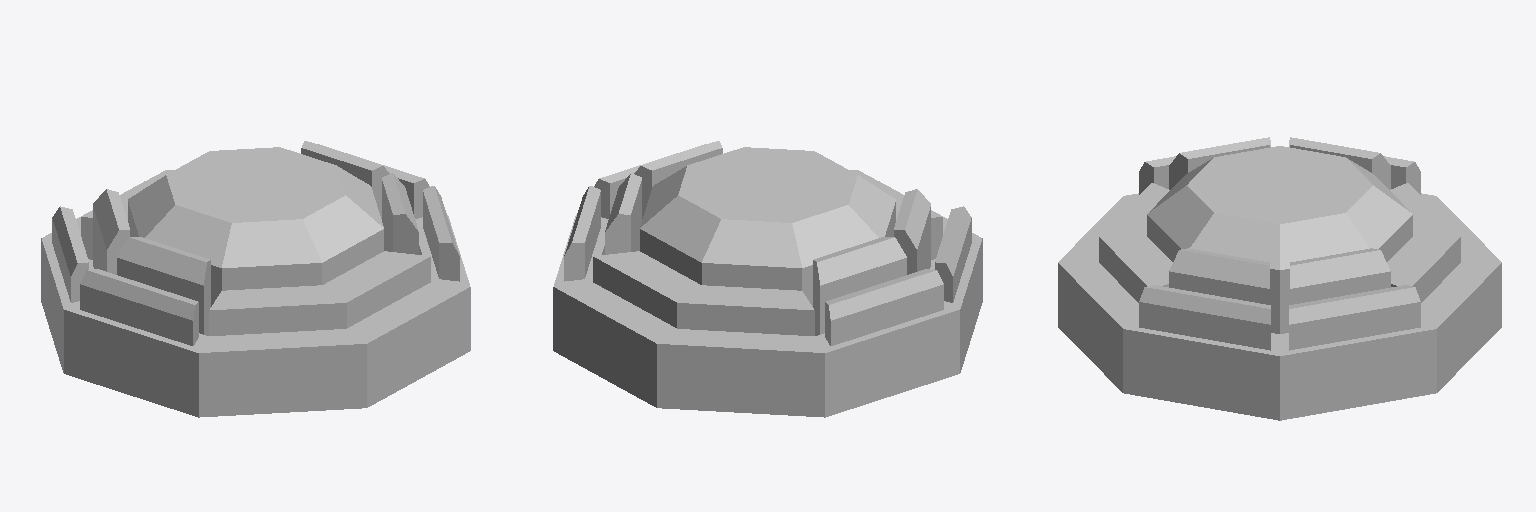
Rendered from weapon_spawner.obj.
3 views of the same model, side by side, from view 1: azimuth 30°, elevation 25°; view 2: azimuth 150°, elevation 25°; view 3: azimuth 270°, elevation 25° (orthographic).
Visible parts, largest first — view 1: Cylinder; view 2: Cylinder; view 3: Cylinder.
Boxes of the visible parts, x1=… form: Cylinder: x1=41, y1=141, x2=470, y2=417; Cylinder: x1=553, y1=141, x2=982, y2=417; Cylinder: x1=1058, y1=137, x2=1501, y2=420.
Bounding box in the file's own units: 2 × 0.7045 × 2.